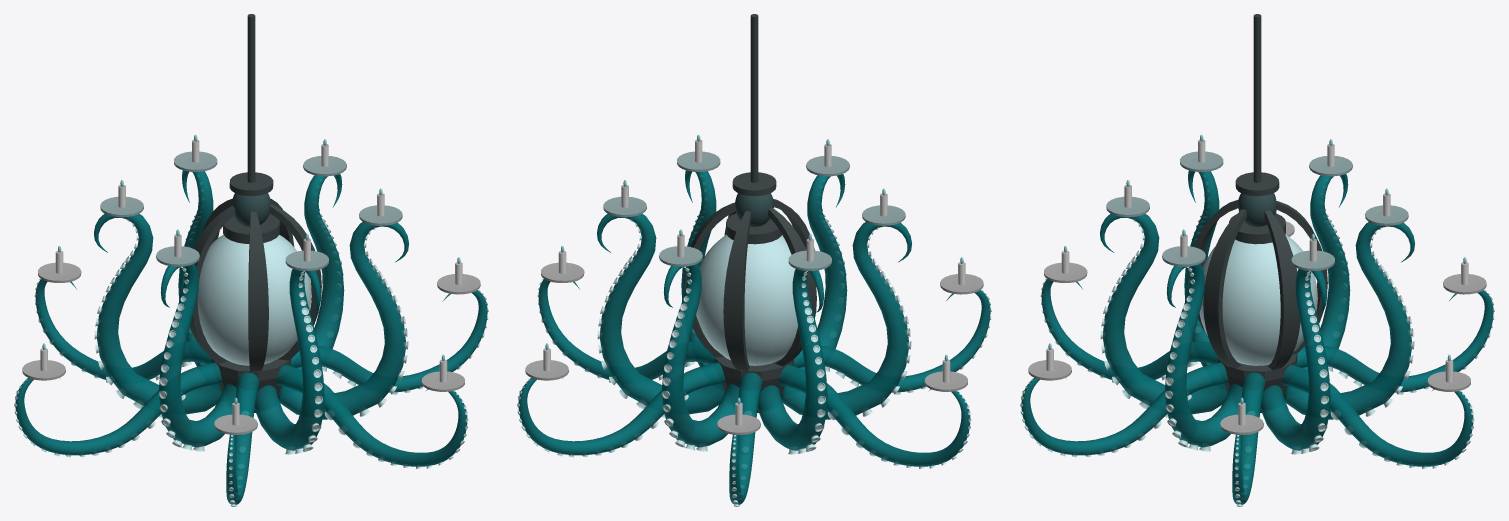
File: octoleir.fbx
3 renders of one model, left to right at view 1: azimuth 30°, elevation 25°; view 2: azimuth 150°, elevation 25°; view 3: azimuth 270°, elevation 25°, orthographic.
Parts seen in each view (by area): view 1: UpperTentacle1_Candle; view 2: UpperTentacle1_Candle; view 3: UpperTentacle1_Candle.
Boxes of the visible parts, x1=… form: UpperTentacle1_Candle: x1=14, y1=14, x2=488, y2=506; UpperTentacle1_Candle: x1=517, y1=14, x2=991, y2=506; UpperTentacle1_Candle: x1=1020, y1=14, x2=1494, y2=506.
Bounding box in the file's own units: 26.16 × 22.52 × 23.76.
